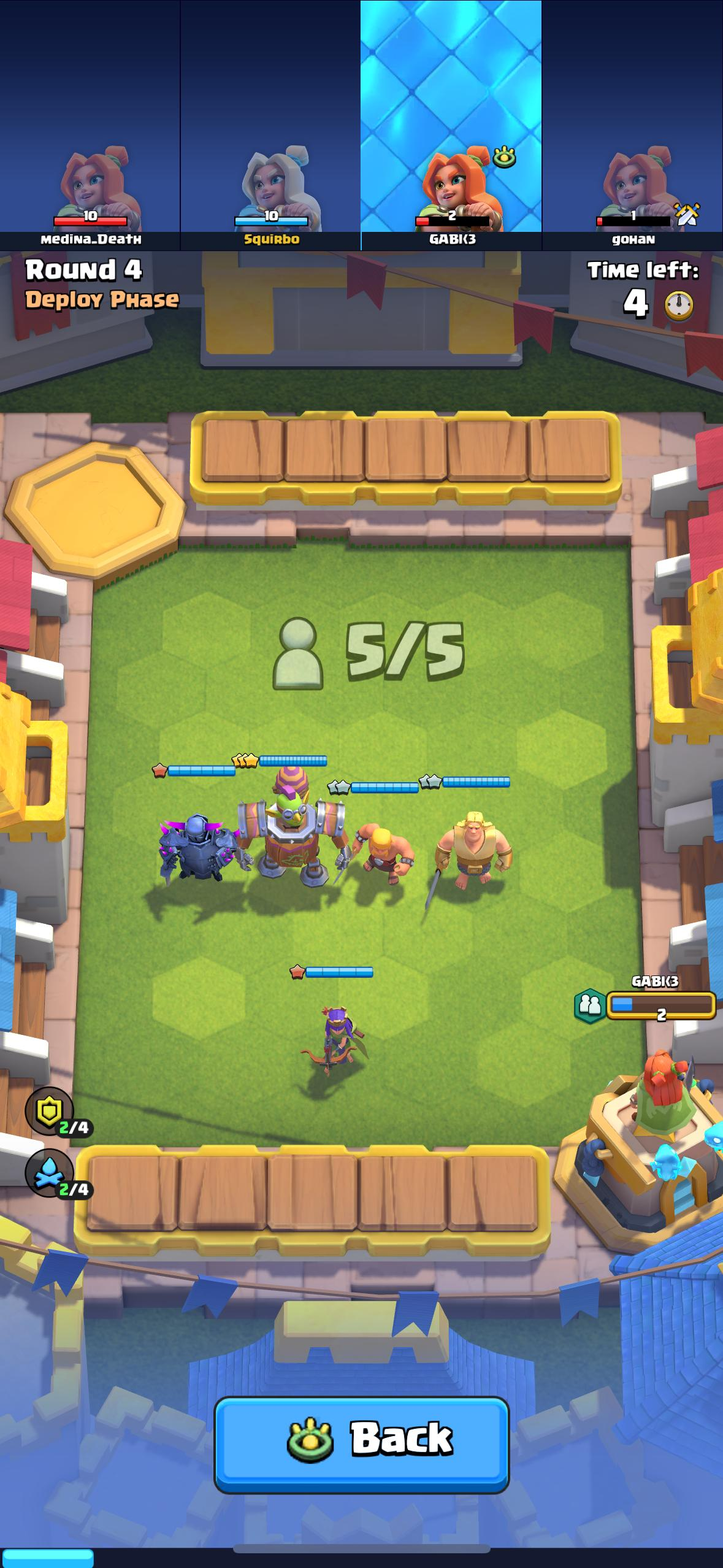barbarian: (354, 815, 415, 889)
golden: (429, 805, 514, 895)
machine: (240, 767, 347, 887)
pekka: (160, 806, 237, 882)
queen: (305, 997, 369, 1074)
